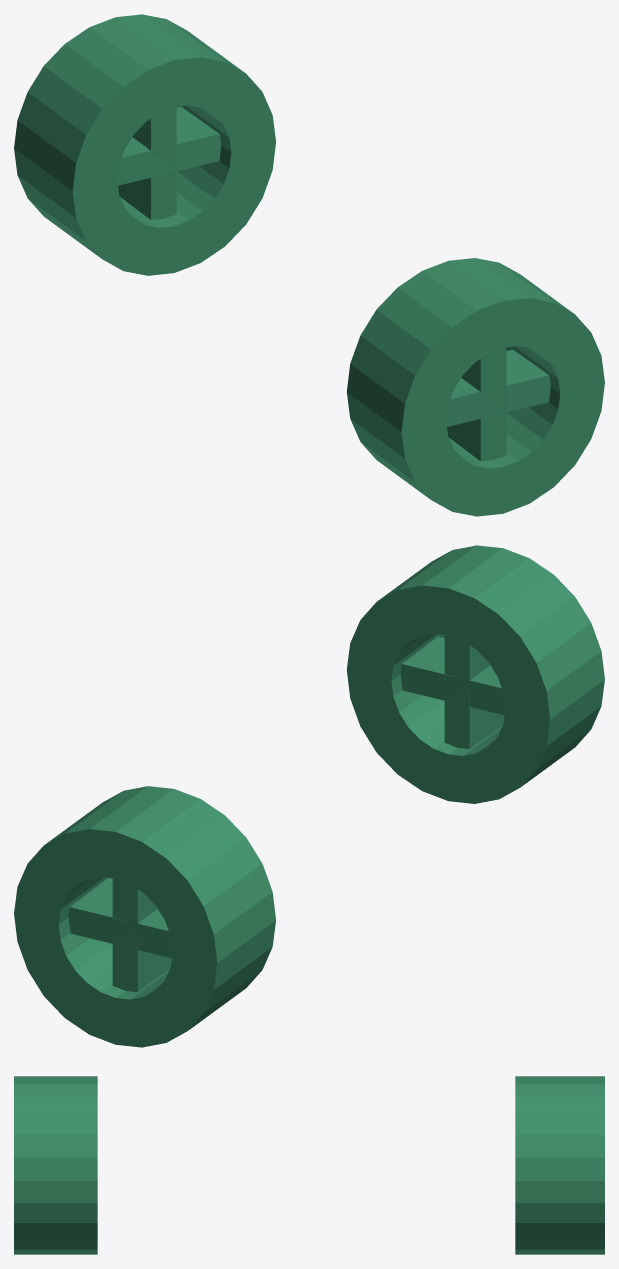
File: POGOvip-1 front wheels.glb
3 views of the same model, one above another, from view 1: azimuth 30°, elevation 25°; view 2: azimuth 150°, elevation 25°; view 3: azimuth 270°, elevation 25° (orthographic). The views are drawn at different scales.
Parts seen in each view (by area): view 1: Mesh_Mesh_head_geo.001_lambert2SG.001; view 2: Mesh_Mesh_head_geo.001_lambert2SG.001; view 3: Mesh_Mesh_head_geo.001_lambert2SG.001.
Boxes of the visible parts, left/top/right/bottom form: Mesh_Mesh_head_geo.001_lambert2SG.001: left=14, top=14, right=604, bottom=516; Mesh_Mesh_head_geo.001_lambert2SG.001: left=14, top=545, right=604, bottom=1047; Mesh_Mesh_head_geo.001_lambert2SG.001: left=14, top=1076, right=604, bottom=1254.
Size of the model in its own units: 3 by 3 by 9.9.
